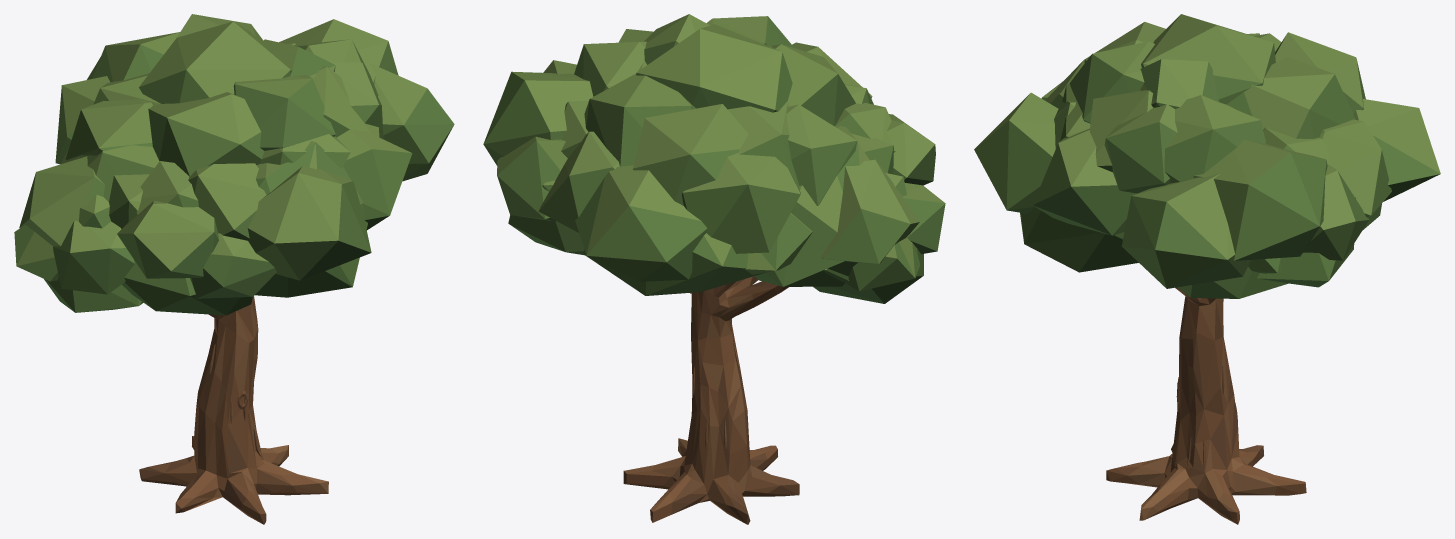
Rendered from tree_oak.glb.
3 renders of one model, left to right at view 1: azimuth 30°, elevation 25°; view 2: azimuth 150°, elevation 25°; view 3: azimuth 270°, elevation 25°, orthographic.
Parts seen in each view (by area): view 1: tree_oak; view 2: tree_oak; view 3: tree_oak.
Boxes of the visible parts, x1,y1,x2,y2 form: tree_oak: (14,14,454,524); tree_oak: (483,14,945,524); tree_oak: (974,14,1440,524).
Size of the model in its own units: 1.85 by 2 by 1.81.
